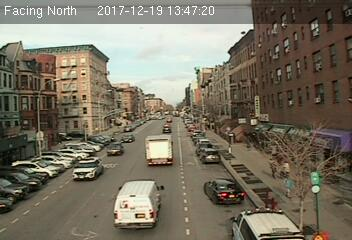car: (203, 177, 245, 205), (197, 148, 219, 163), (107, 142, 123, 154), (120, 134, 135, 143)
police: (225, 204, 298, 240), (72, 156, 104, 182)
truck: (112, 179, 163, 227), (144, 135, 172, 163)
